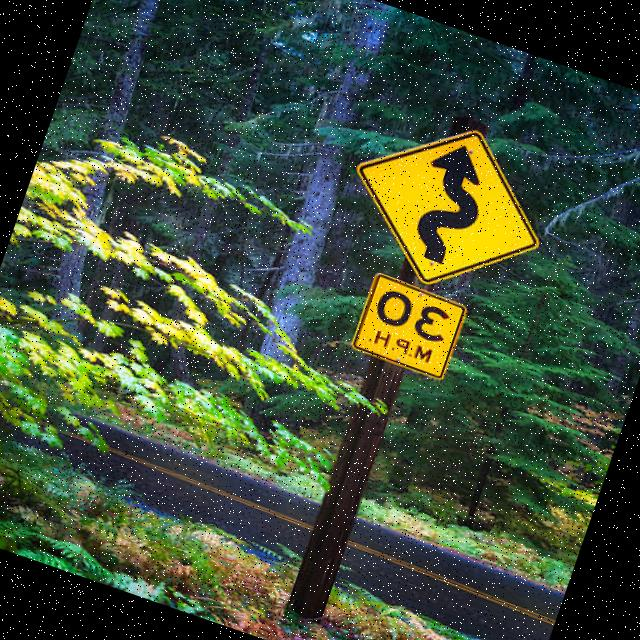left_sharp_curve: (324, 94, 573, 318)
